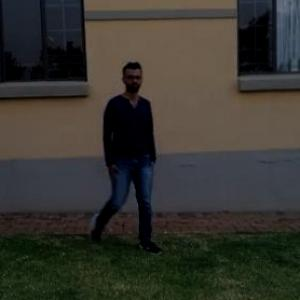follow: (102, 62, 156, 247)
